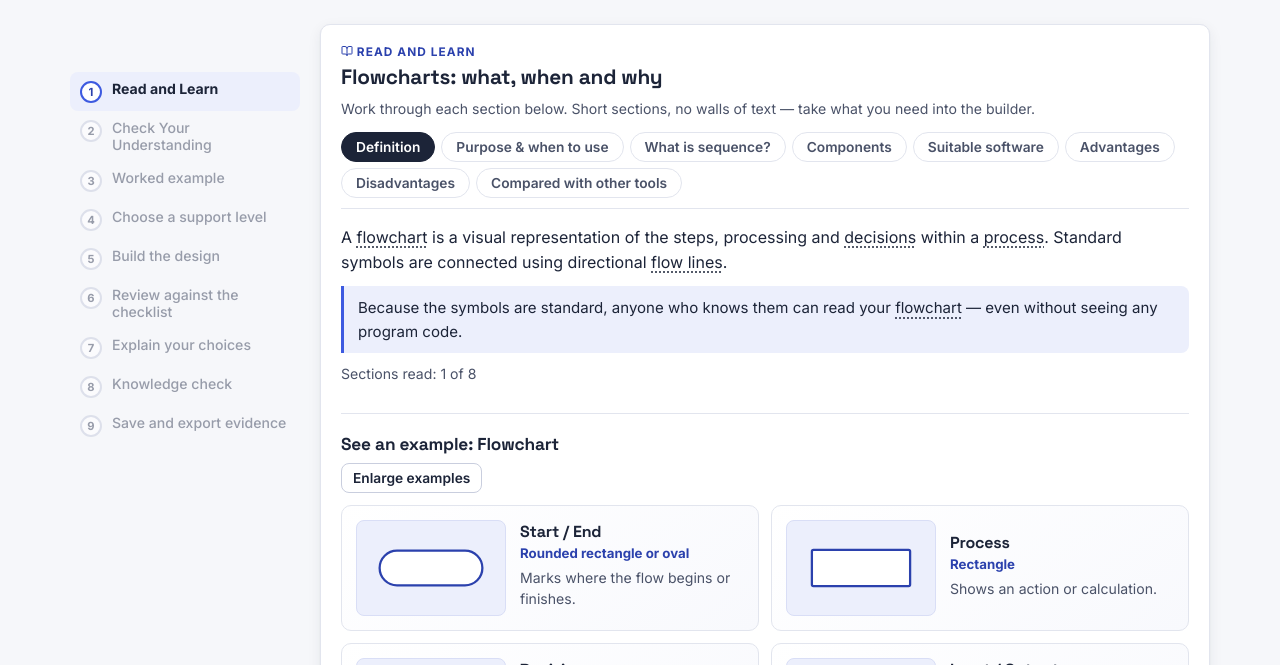
Test: App smoke tests › renders the flowchart journey and its quick check gating
Check: the panel shows "steps, processing and decisions", box [341, 225, 1189, 353]
Click the tab "What is sequence?" at [708, 147], box [630, 132, 786, 162]
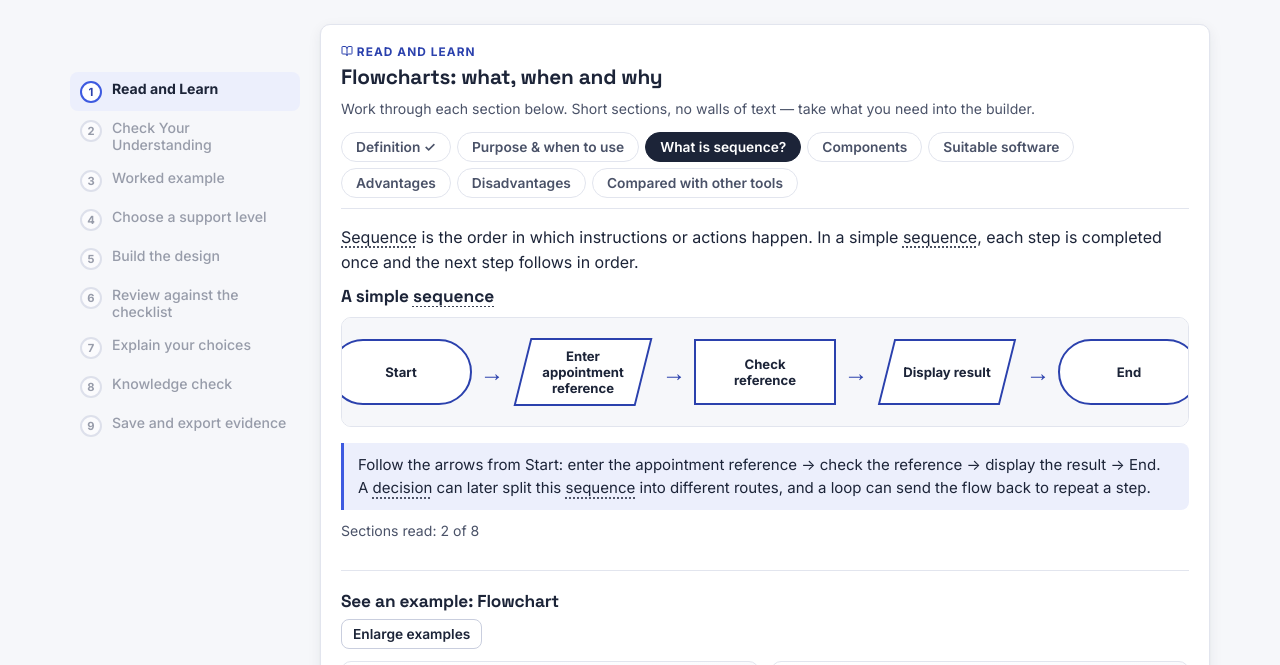
Check: the panel shows "Sequence is the order in which instructions or actions happen", box [341, 225, 1189, 510]
Check: the element named "Example sequence: Start" is shown, box [341, 317, 1189, 427]
Click the tab "Components" at [865, 147], box [807, 132, 922, 162]
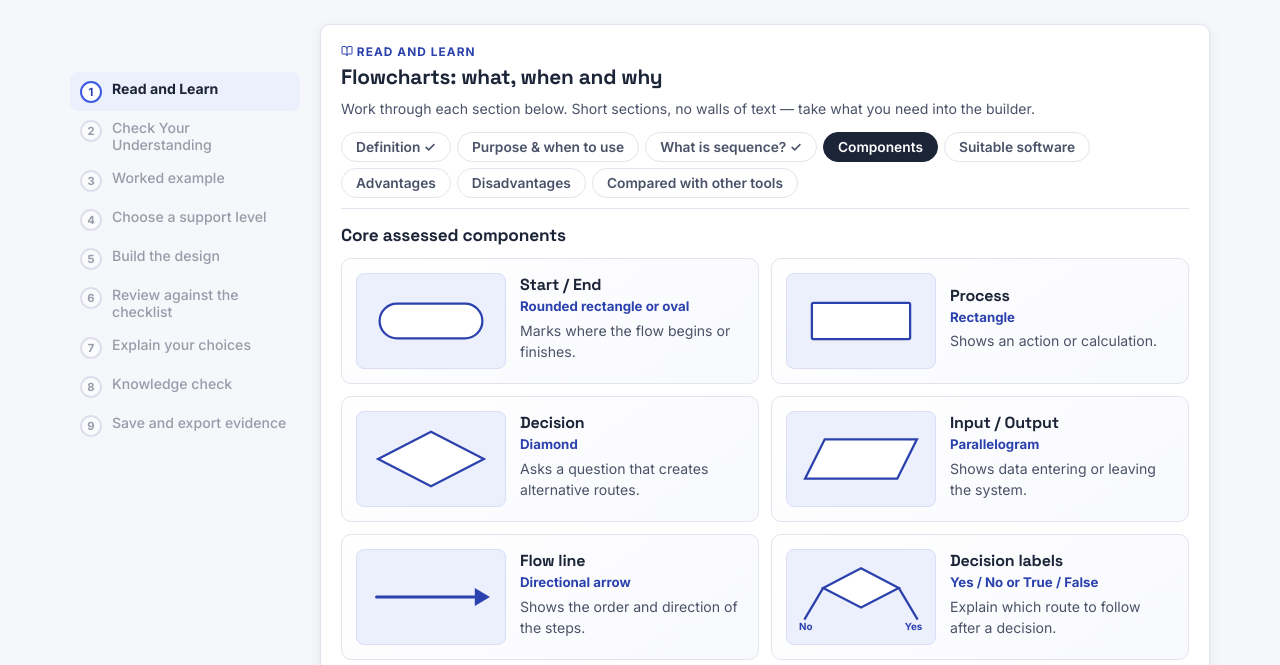
Check: the element named "Flowchart symbols and their meanings" is shown, box [341, 258, 1189, 660]
Check: the heading "Start / End" is shown, box [520, 274, 601, 295]
Check: the heading "Input / Output" is shown, box [950, 412, 1059, 433]
